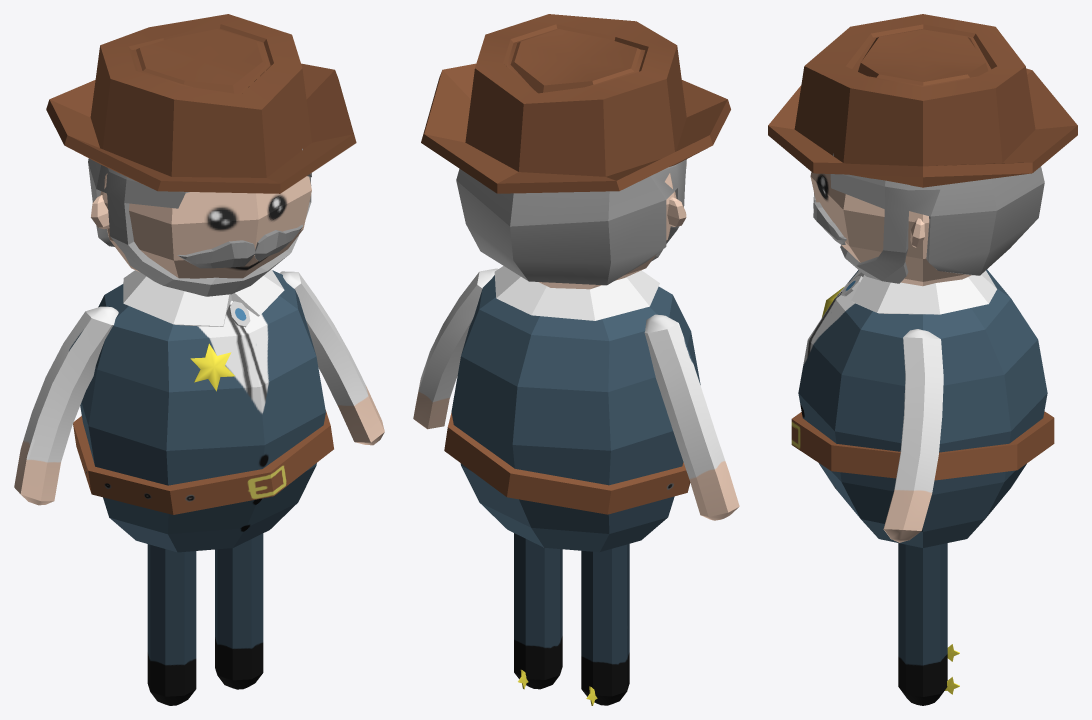
The model's file is Sheriff.fbx.
3 renders of one model, left to right at view 1: azimuth 30°, elevation 25°; view 2: azimuth 150°, elevation 25°; view 3: azimuth 270°, elevation 25°, orthographic.
Parts seen in each view (by area): view 1: Body, Hat, head, Arm_L, Belt, Leg_L, Leg_R, Beard, Arm_R, Collar, Mustache, Star_1; view 2: Hat, Body, Beard, Arm_L, Belt, Leg_L, Leg_R, Collar, Arm_R, head; view 3: Hat, Body, Beard, Arm_R, Leg_R, Belt, head, Collar, Mustache.
Boxes of the visible parts, x1,y1,x2,y2 form: Body: [80, 270, 325, 552]; Hat: [46, 14, 356, 193]; head: [100, 173, 311, 278]; Arm_L: [14, 306, 118, 505]; Belt: [73, 410, 333, 514]; Leg_L: [147, 544, 196, 705]; Leg_R: [215, 533, 263, 689]; Beard: [88, 148, 311, 296]; Arm_R: [279, 271, 384, 445]; Collar: [123, 269, 284, 326]; Mustache: [177, 224, 302, 268]; Star_1: [190, 343, 234, 391]; Hat: [421, 14, 730, 193]; Body: [451, 275, 700, 552]; Beard: [456, 159, 686, 285]; Arm_L: [644, 314, 739, 520]; Belt: [444, 412, 690, 514]; Leg_L: [581, 544, 629, 705]; Leg_R: [514, 533, 562, 689]; Collar: [494, 266, 659, 320]; Arm_R: [413, 268, 498, 429]; head: [539, 164, 686, 289]; Hat: [768, 14, 1077, 187]; Body: [798, 269, 1047, 547]; Beard: [830, 153, 1044, 283]; Arm_R: [883, 329, 943, 542]; Leg_R: [898, 543, 947, 705]; Belt: [791, 411, 1054, 480]; head: [810, 172, 971, 286]; Collar: [848, 270, 996, 314]; Mustache: [813, 193, 846, 244].
Size of the model in its own units: 3.45 by 6.16 by 2.75.
